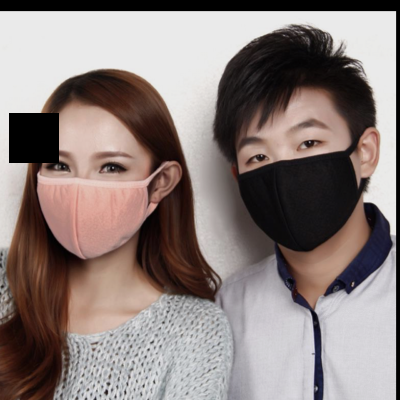with_mask: (234, 117, 361, 256), (35, 146, 148, 265)
